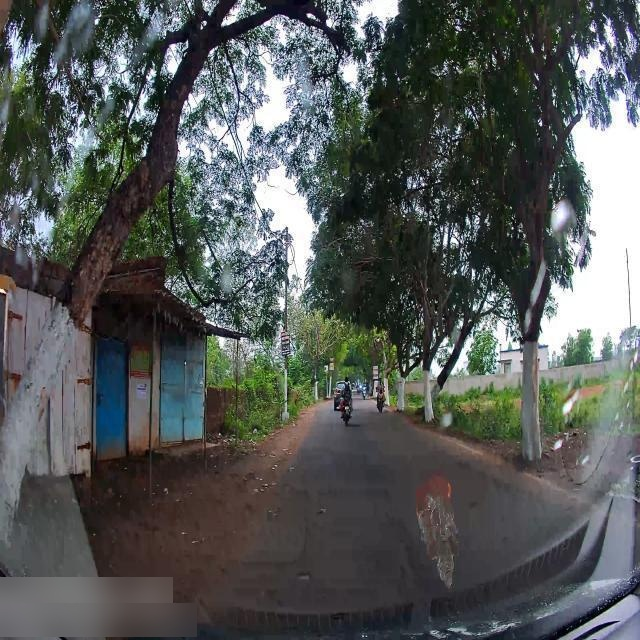pothole: (296, 561, 321, 590)
